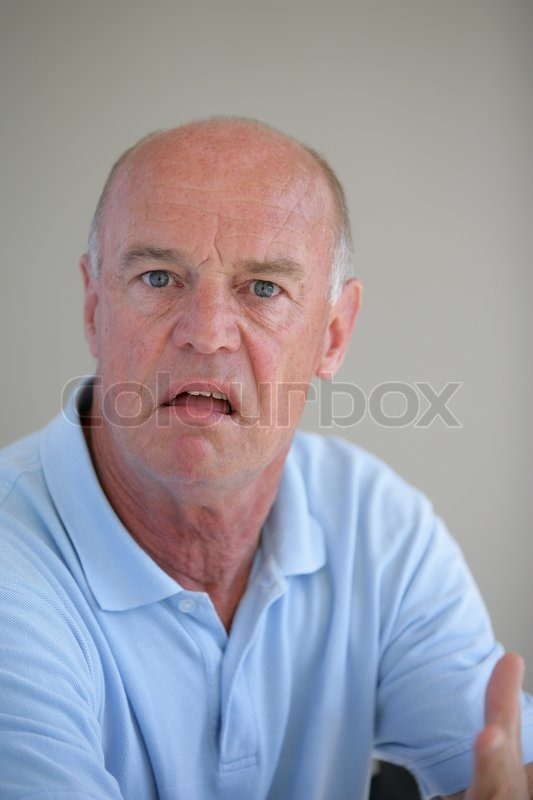confused: (82, 210, 332, 506)
